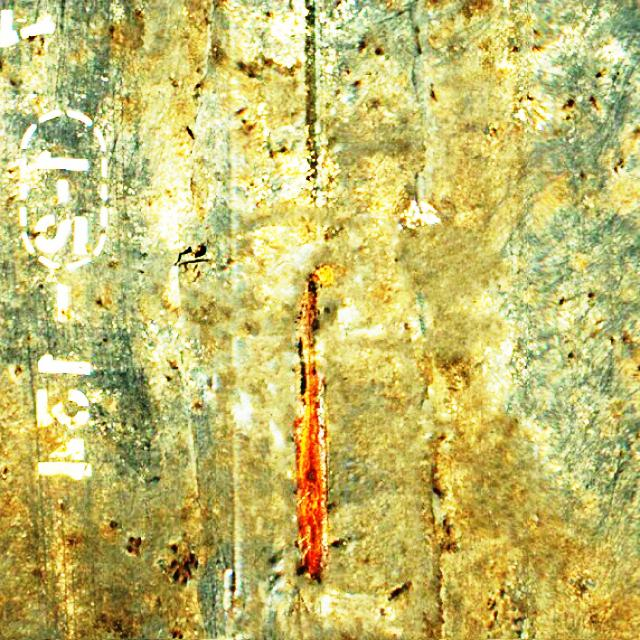Corrosion: (294, 267, 332, 586)
